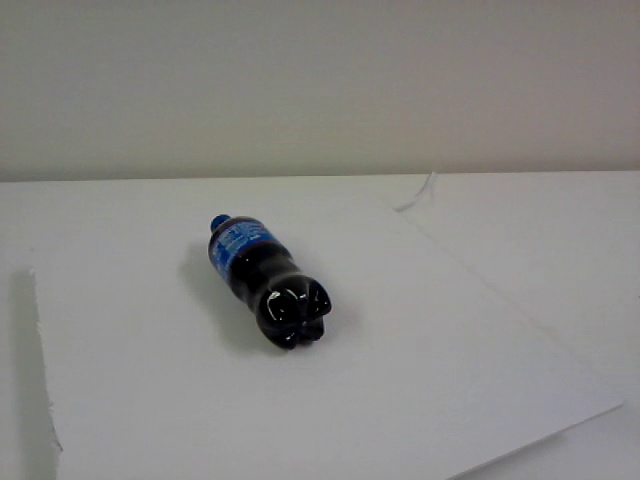botolplastik: (210, 213, 332, 351)
